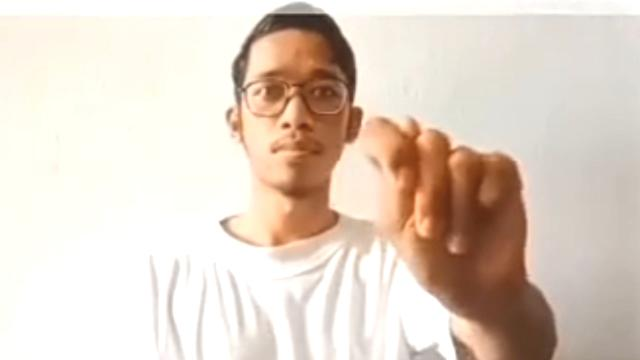M: (357, 110, 535, 306)
